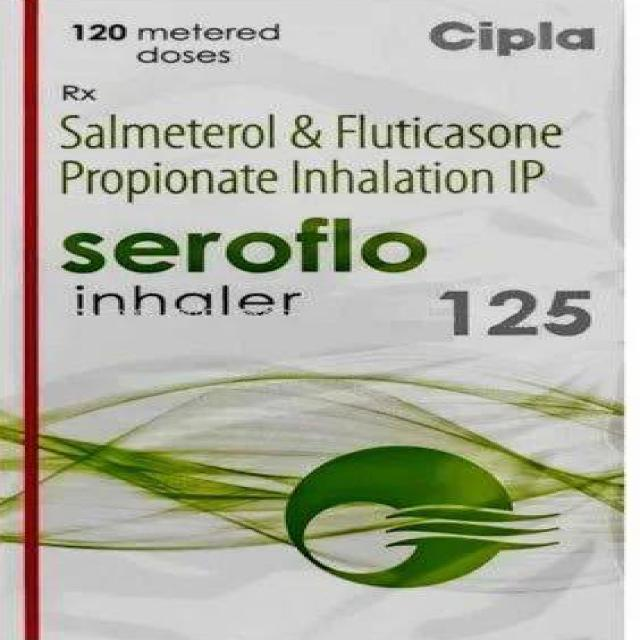drug-name: (55, 213, 434, 278)
